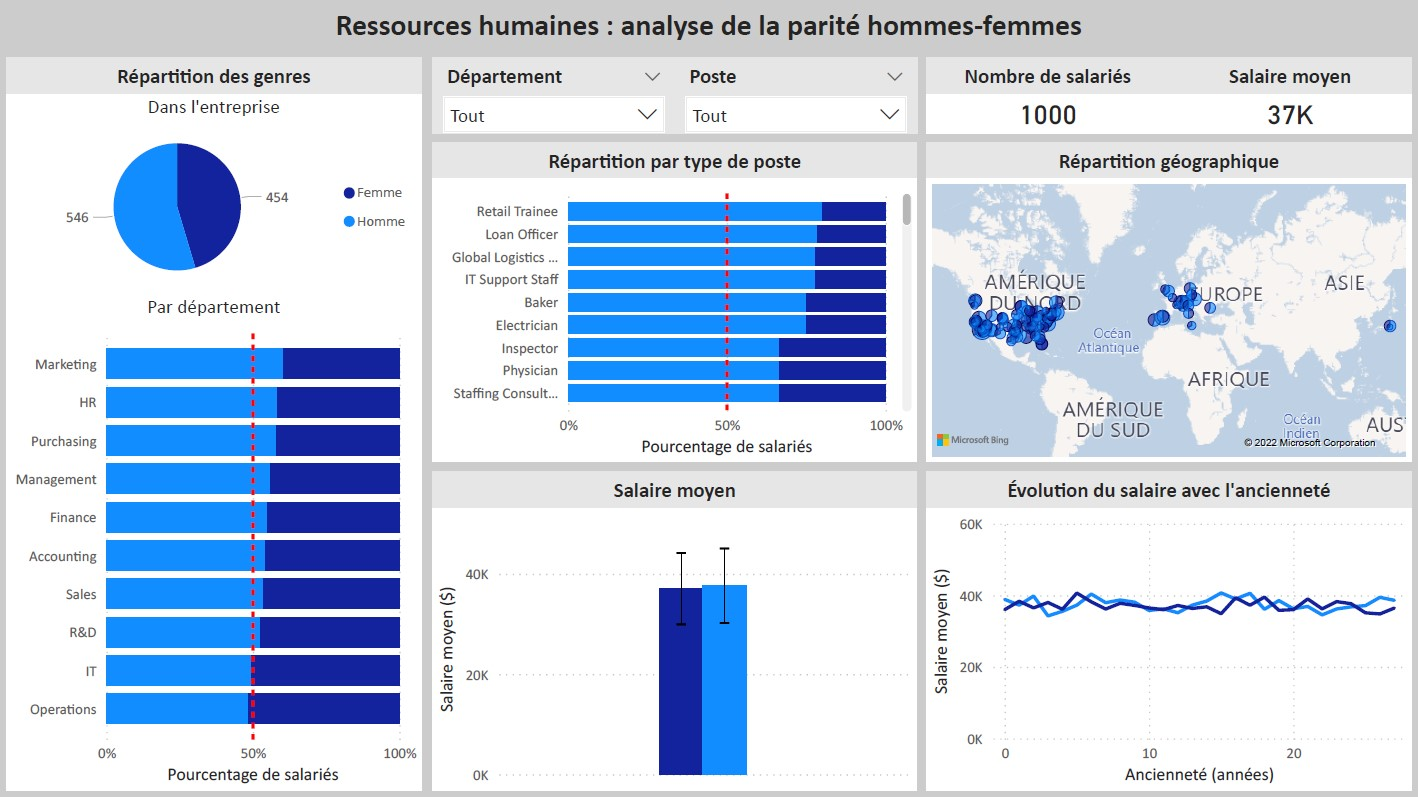

The dashboard page shown, as its layout file describes it:
{"tool":"powerbi","page":{"name":"Dashboard","canvas":[1280,720],"ordinal":0},"visuals":[{"type":"shape","box":[0,0,1278.6,720],"z":0},{"type":"textbox","box":[8.6,53.8,372.8,33],"z":4500},{"type":"pieChart","title":"Dans l''entreprise","fields":{"Y":["RH_db.Nombre de salariés"],"Category":["RH_db.Genre (fr)"]},"box":[8.6,86.8,372.8,179.7],"z":5000},{"type":"textbox","box":[834.9,53.8,217.6,33],"z":6000},{"type":"textbox","box":[1052.5,53.8,217.6,33],"z":7000},{"type":"card","fields":{"Values":["RH_db.Nombre de salariés"]},"box":[834.9,86.8,217.6,35.4],"z":7500},{"type":"card","fields":{"Values":["Avg(RH_db.Salary)"]},"box":[1052.5,86.8,217.6,35.4],"z":7750},{"type":"textbox","box":[0,4,1278.6,45.2],"z":8000},{"type":"hundredPercentStackedBarChart","title":"Par département","fields":{"Series":["RH_db.Genre (fr)"],"Y":["RH_db.Nombre de salariés"],"Category":["RH_db.Corporate renamed"]},"box":[8.6,266.5,372.8,445],"z":9000},{"type":"textbox","box":[834.9,129.6,435.2,33],"z":16750},{"type":"slicer","fields":{"Values":["RH_db.Corporate"]},"box":[391.2,53.8,217.6,68.5],"z":18500},{"type":"map","fields":{"Category":["RH_db.Residence"],"Size":["RH_db.Nombre de salariés"],"Series":["RH_db.Genre (fr)"]},"box":[834.9,162.6,435.2,254.3],"z":18750},{"type":"textbox","box":[834.9,425.4,435.2,33],"z":18875},{"type":"lineChart","fields":{"Category":["RH_db.anciennete"],"Y":["Avg(RH_db.Salary)"],"Series":["RH_db.Genre (fr)"]},"box":[834.9,458.4,435.2,253],"z":18937},{"type":"slicer","fields":{"Values":["RH_db.Job Title"]},"box":[608.8,53.8,217.6,68.5],"z":19000},{"type":"textbox","box":[391.2,129.6,435.2,33],"z":19500},{"type":"hundredPercentStackedBarChart","fields":{"Category":["RH_db.Job Title"],"Series":["RH_db.Genre (fr)"],"Y":["RH_db.Nombre de salariés"]},"box":[391.2,162.6,435.2,254.3],"z":20000},{"type":"textbox","box":[391.2,425.4,435.2,33],"z":21000},{"type":"clusteredColumnChart","fields":{"Y":["Avg(RH_db.Salary)"],"Series":["RH_db.Genre (fr)"]},"box":[391.2,458.4,435.2,253],"z":21500}]}

Visuals, with their boxes in screenshot pixels (x1, y1, x2, y2), scaled from the page's 1280x720 canvas onto the 1418x797 screenshot:
shape: {"x1": 0, "y1": 0, "x2": 1416, "y2": 796}
textbox: {"x1": 10, "y1": 60, "x2": 423, "y2": 96}
"Dans l''entreprise" pieChart: {"x1": 10, "y1": 96, "x2": 423, "y2": 295}
textbox: {"x1": 925, "y1": 60, "x2": 1166, "y2": 96}
textbox: {"x1": 1166, "y1": 60, "x2": 1407, "y2": 96}
card - RH_db.Nombre de salariés: {"x1": 925, "y1": 96, "x2": 1166, "y2": 135}
card - Avg(RH_db.Salary): {"x1": 1166, "y1": 96, "x2": 1407, "y2": 135}
textbox: {"x1": 0, "y1": 4, "x2": 1416, "y2": 54}
"Par département" hundredPercentStackedBarChart: {"x1": 10, "y1": 295, "x2": 423, "y2": 788}
textbox: {"x1": 925, "y1": 143, "x2": 1407, "y2": 180}
slicer - RH_db.Corporate: {"x1": 433, "y1": 60, "x2": 674, "y2": 135}
map - RH_db.Residence x RH_db.Nombre de salariés: {"x1": 925, "y1": 180, "x2": 1407, "y2": 461}
textbox: {"x1": 925, "y1": 471, "x2": 1407, "y2": 507}
lineChart - RH_db.anciennete x Avg(RH_db.Salary): {"x1": 925, "y1": 507, "x2": 1407, "y2": 787}
slicer - RH_db.Job Title: {"x1": 674, "y1": 60, "x2": 915, "y2": 135}
textbox: {"x1": 433, "y1": 143, "x2": 915, "y2": 180}
hundredPercentStackedBarChart - RH_db.Job Title x RH_db.Genre (fr): {"x1": 433, "y1": 180, "x2": 915, "y2": 461}
textbox: {"x1": 433, "y1": 471, "x2": 915, "y2": 507}
clusteredColumnChart - Avg(RH_db.Salary) x RH_db.Genre (fr): {"x1": 433, "y1": 507, "x2": 915, "y2": 787}
